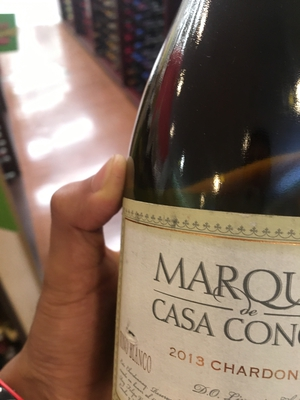marques de casa concha chardonnay: (127, 111, 300, 400)
